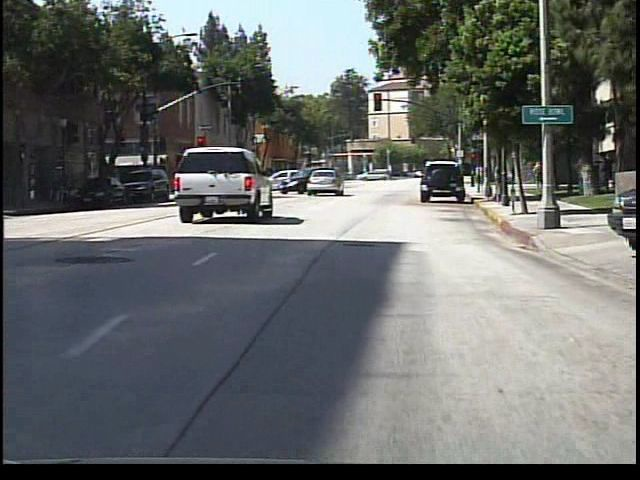person: (318, 159, 337, 195), (531, 158, 547, 194), (471, 156, 487, 187)
